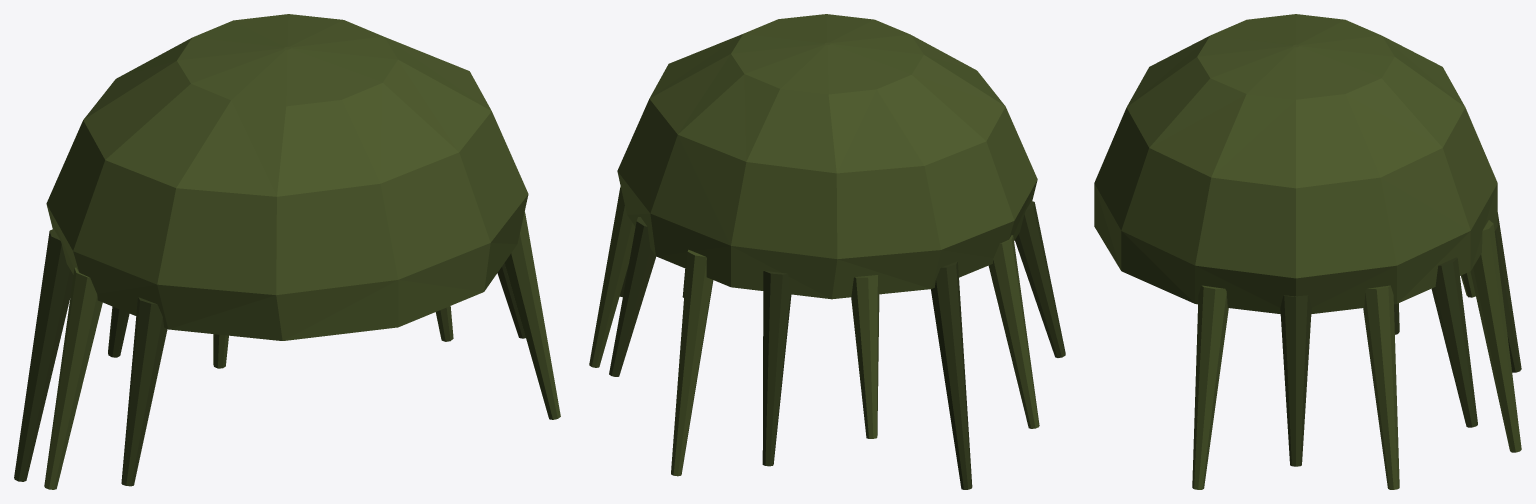
File: ghood.glb
3 views of the same model, side by side, from view 1: azimuth 30°, elevation 25°; view 2: azimuth 150°, elevation 25°; view 3: azimuth 270°, elevation 25° (orthographic). The views are drawn at different scales.
Parts seen in each view (by area): view 1: Ghillie Hood.002; view 2: Ghillie Hood.002; view 3: Ghillie Hood.002.
Part boxes in pixels (<box>): Ghillie Hood.002: <box>14,14,560,489</box>; Ghillie Hood.002: <box>589,14,1065,489</box>; Ghillie Hood.002: <box>1094,14,1521,489</box>.
Size of the model in its own units: 0.8509 by 0.7025 by 0.7132.
